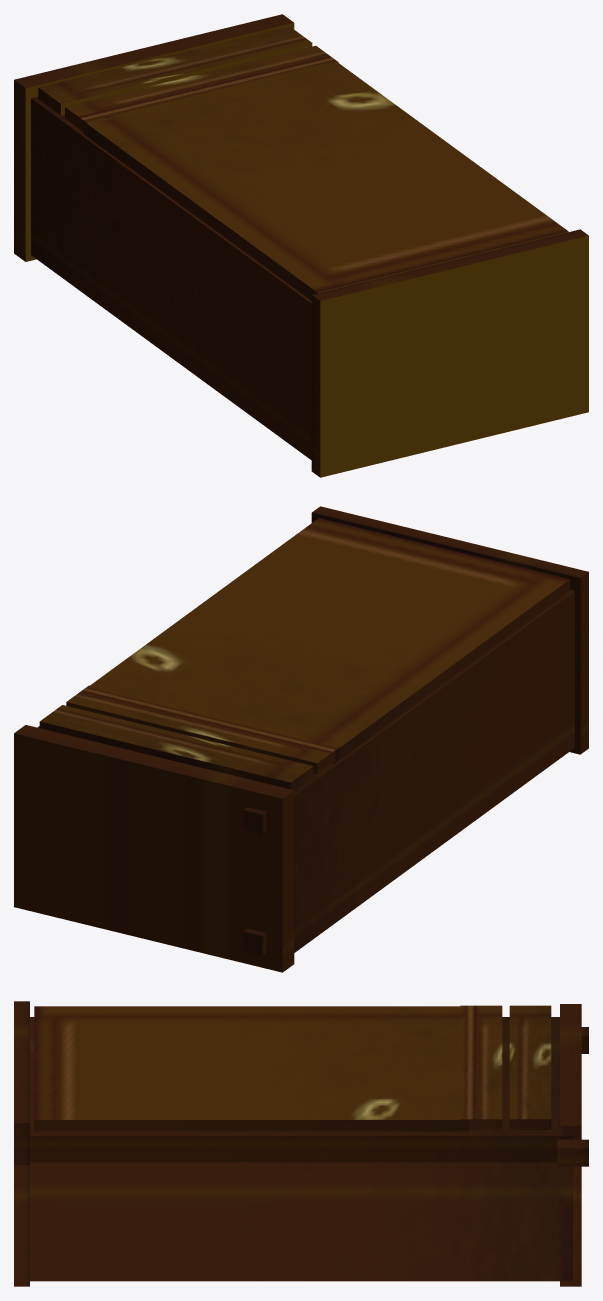
Rendered from pz_wardrobe_storage_01_fancy_oak_0_0.obj.
3 views of the same model, one above another, from view 1: azimuth 30°, elevation 25°; view 2: azimuth 150°, elevation 25°; view 3: azimuth 270°, elevation 25° (orthographic). The views are drawn at different scales.
Bounding box in the file's own units: 0.995 × 0.625 × 1.99.
1 material, 1 textured.
